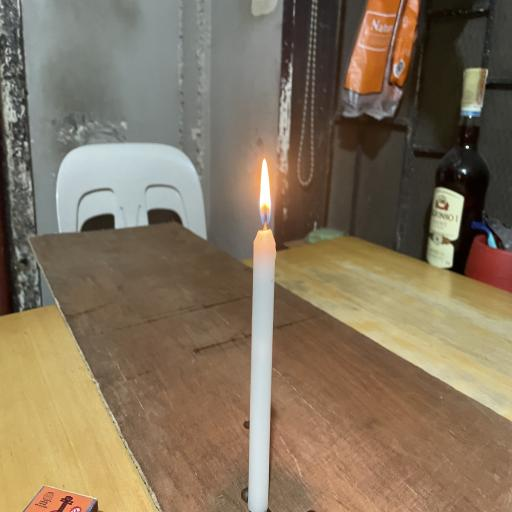fire: (247, 144, 288, 250)
